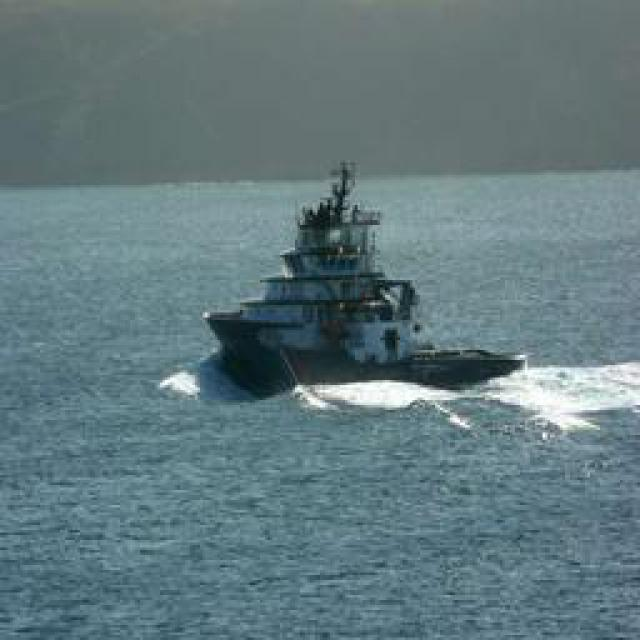Ship: (196, 164, 529, 404)
